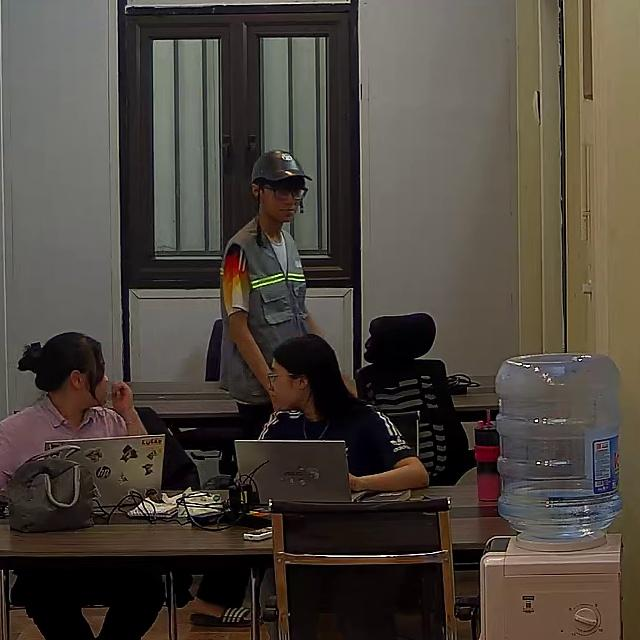helmet: (250, 149, 313, 187)
no_helmet: (272, 334, 356, 423), (19, 331, 104, 393)
none: (255, 399, 417, 492), (0, 394, 128, 505)
vest: (218, 218, 312, 405)
